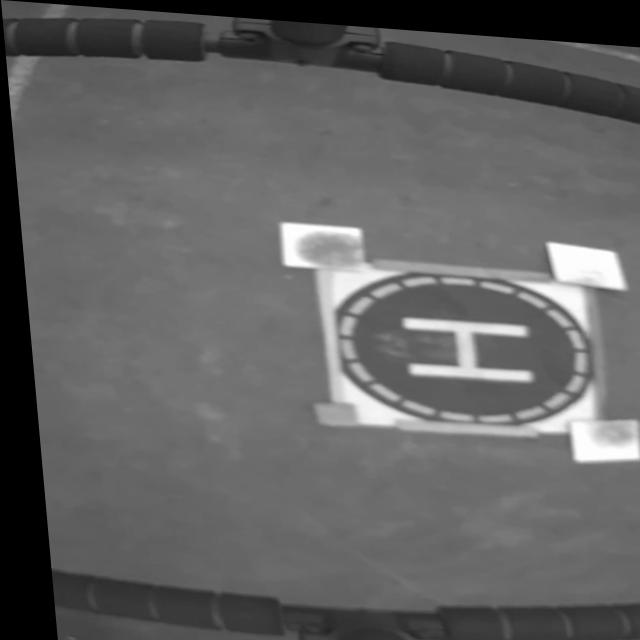Helipad: (397, 311, 527, 375)
